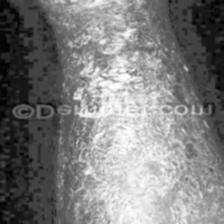Non-Cancerous Skin Condition: (62, 119, 224, 224), (48, 0, 193, 101)
